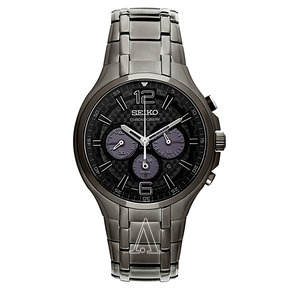clock: (73, 72, 219, 209)
